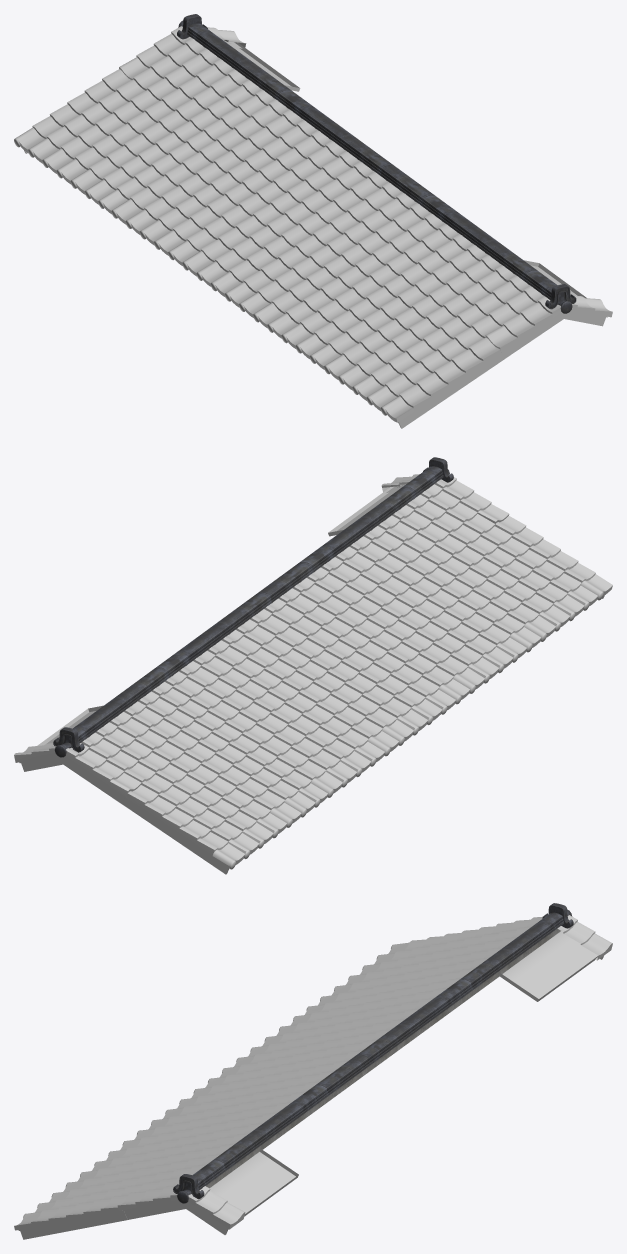
Rendered from SM_KYT_Roof1F_A_M2.fbx.
3 renders of one model, top to bottom at view 1: azimuth 30°, elevation 25°; view 2: azimuth 150°, elevation 25°; view 3: azimuth 330°, elevation 25°, orthographic.
Visible parts, largest first — view 1: SM_KYT_Roof1F_A_M2_LOD0; view 2: SM_KYT_Roof1F_A_M2_LOD0; view 3: SM_KYT_Roof1F_A_M2_LOD0.
Boxes of the visible parts, x1=… form: SM_KYT_Roof1F_A_M2_LOD0: x1=14, y1=14, x2=612, y2=428; SM_KYT_Roof1F_A_M2_LOD0: x1=14, y1=457, x2=612, y2=874; SM_KYT_Roof1F_A_M2_LOD0: x1=14, y1=903, x2=612, y2=1239.
Size of the model in its own units: 214 by 649 by 94.82.
